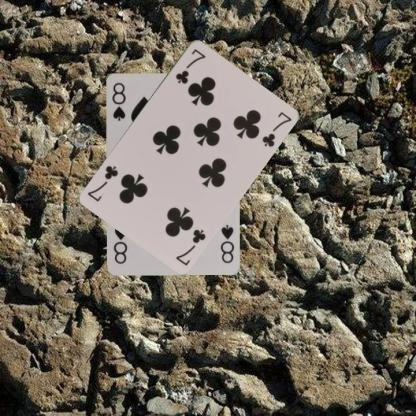7c: (173, 226, 207, 267), (173, 46, 207, 85)
8s: (109, 80, 127, 122), (217, 222, 235, 264)
